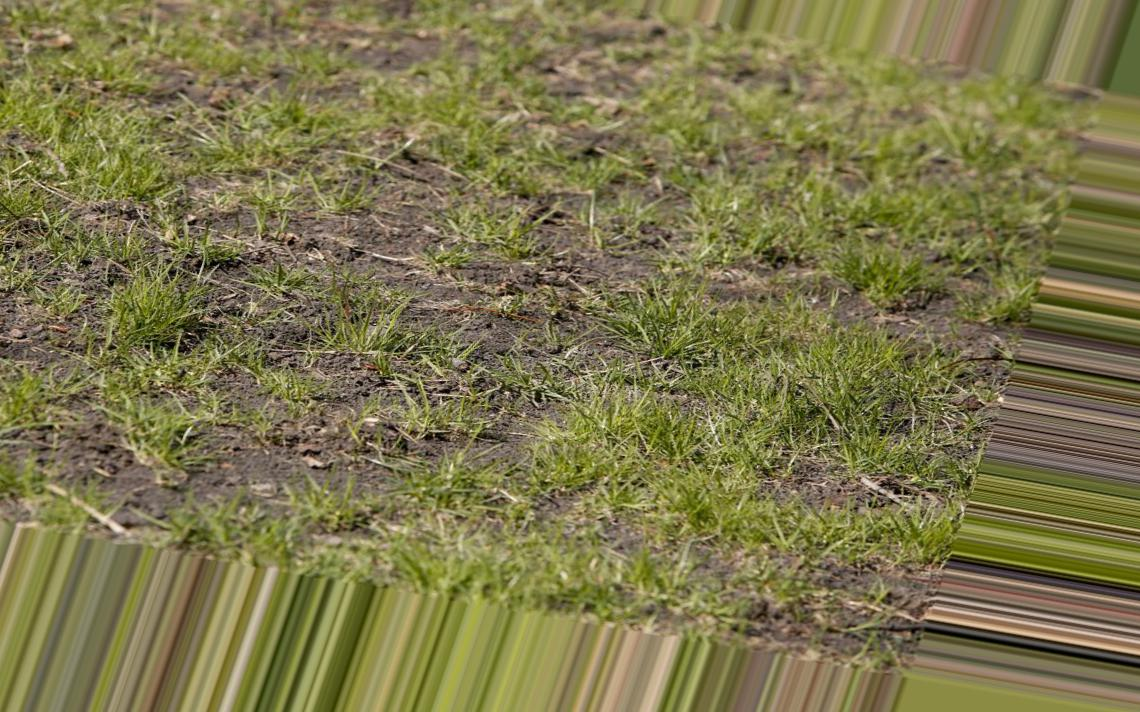patch: (141, 40, 603, 563), (645, 97, 897, 323), (582, 450, 855, 633)
